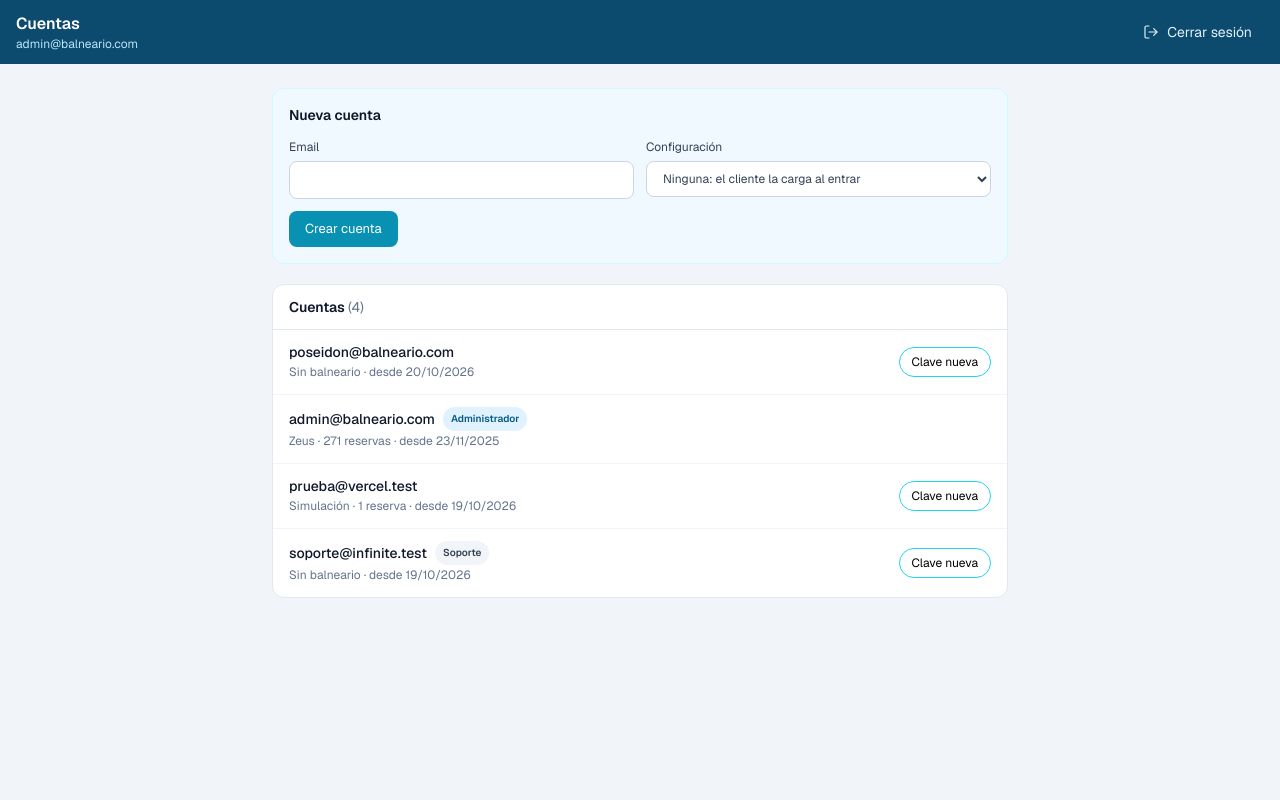
panel de cuentas › muestra el error de un email repetido
The width and height of the screenshot is (1280, 800).
Expected: the list named "Cuentas" is shown, x1=273 y1=330 x2=1007 y2=597
Type "admin@balneario.com" into the field labelled "Email".
click(462, 180); type("admin@balneario.com")  # box x1=289 y1=161 x2=634 y2=199
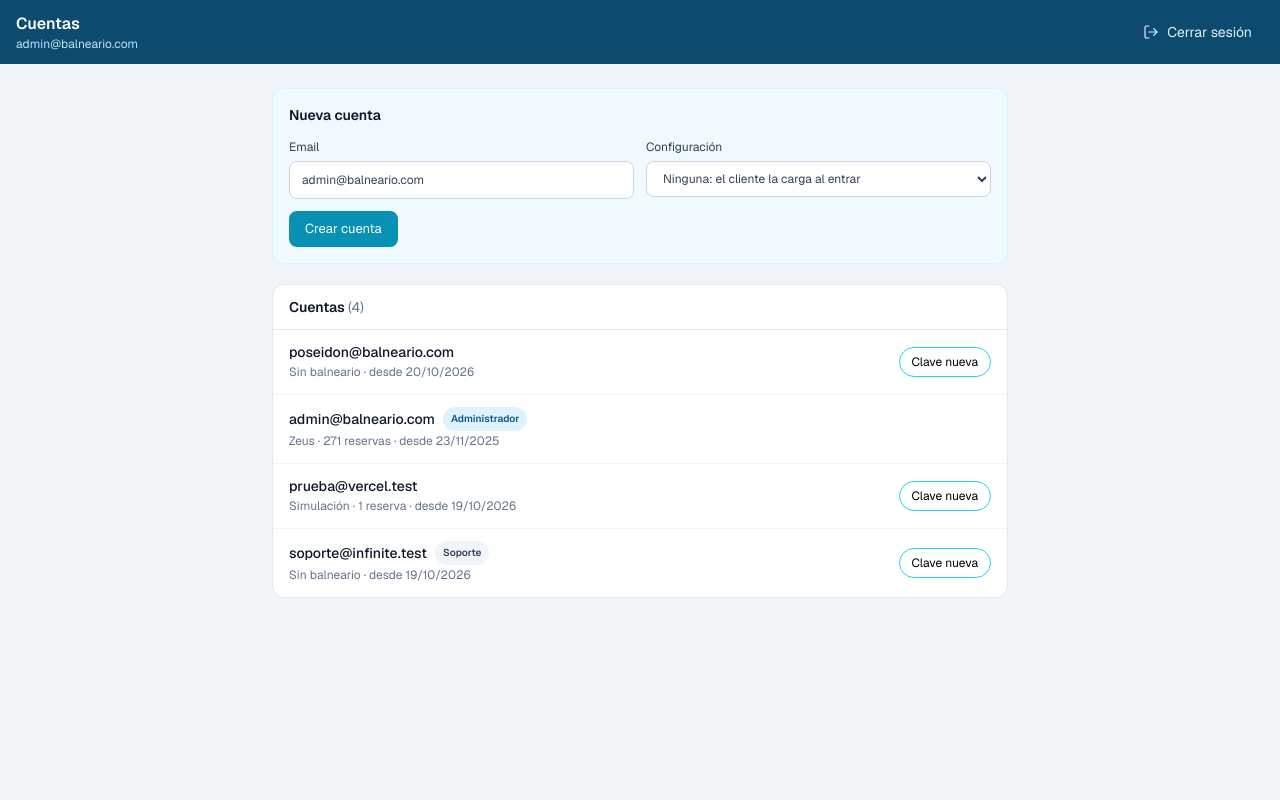
Click the button "Crear cuenta".
click(343, 229)  # box x1=289 y1=211 x2=398 y2=247
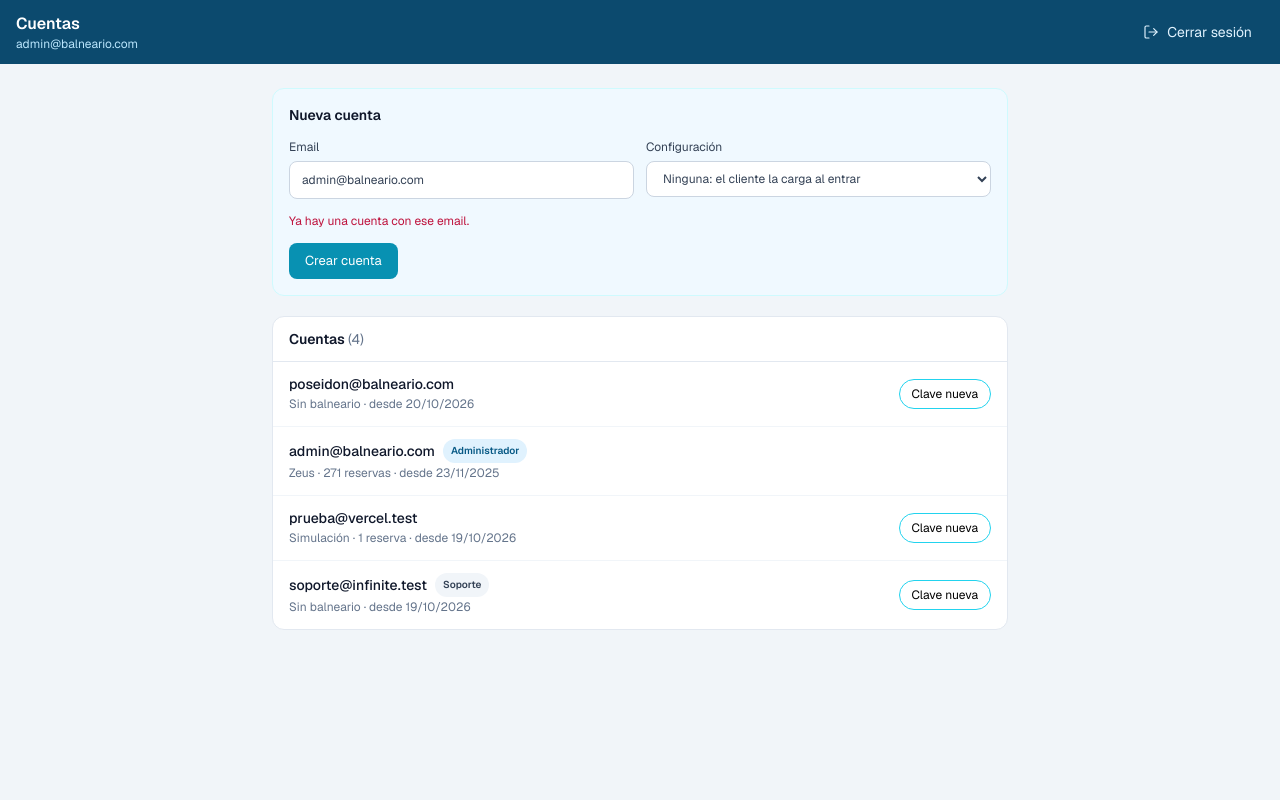
Expected: the text "Ya hay una cuenta con ese email." is shown, x1=289 y1=213 x2=469 y2=229
